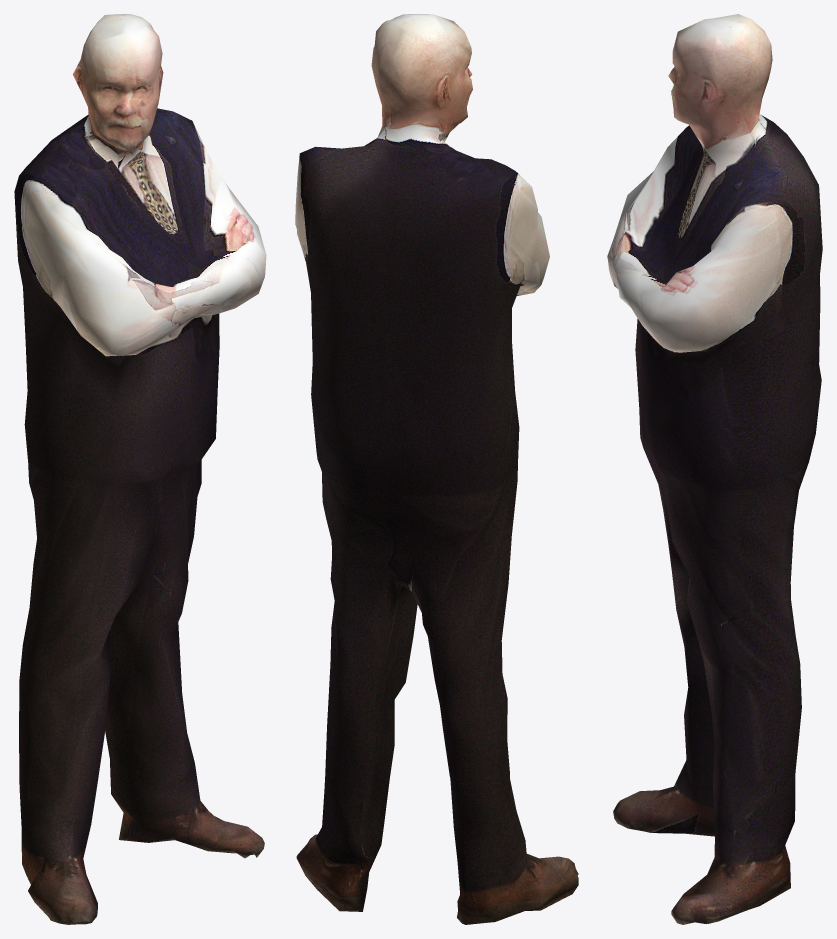
File: Person_1.obj
3 views of the same model, side by side, from view 1: azimuth 30°, elevation 25°; view 2: azimuth 150°, elevation 25°; view 3: azimuth 270°, elevation 25° (orthographic). The views are drawn at different scales.
Visible parts, largest first — view 1: Person_1; view 2: Person_1; view 3: Person_1.
Boxes of the visible parts, bbox=[...] form: Person_1: bbox=[14, 14, 266, 924]; Person_1: bbox=[295, 14, 578, 924]; Person_1: bbox=[607, 14, 822, 924].
Bounding box in the file's own units: 0.5165 × 1.79 × 0.41.
Materials: 1 (1 with a texture image).
